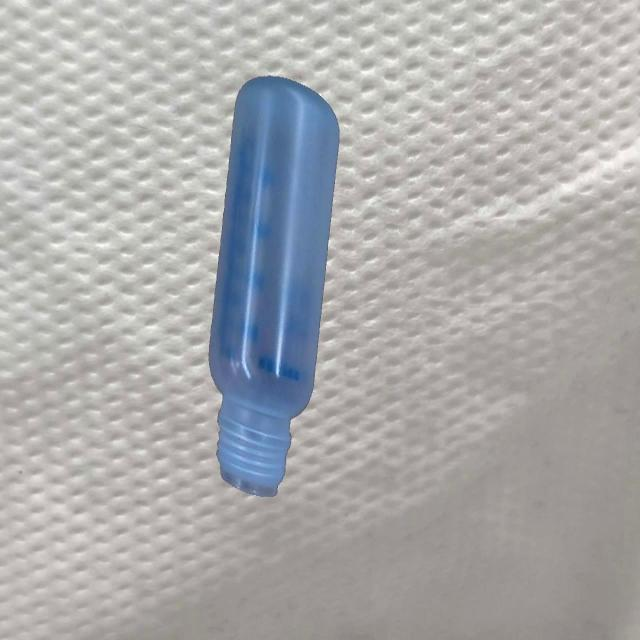bottle: (208, 70, 340, 500)
